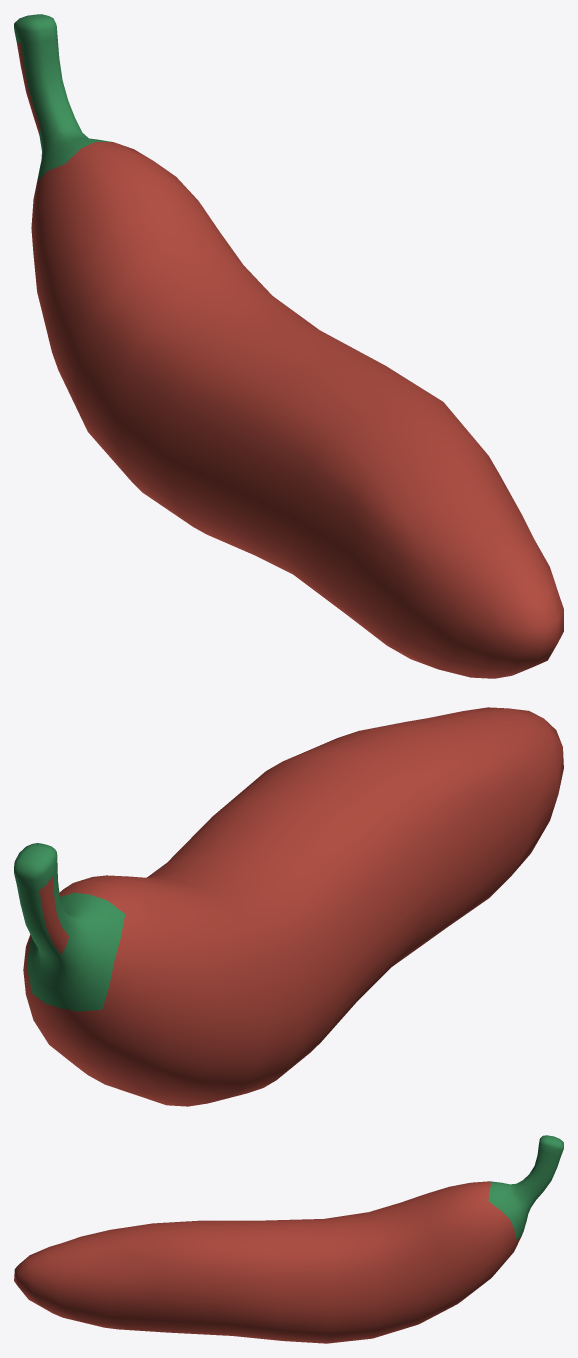
The model's file is Chilli_03.dae.
The picture shows the model from 3 angles, top to bottom: view 1: azimuth 30°, elevation 25°; view 2: azimuth 150°, elevation 25°; view 3: azimuth 270°, elevation 25°; orthographic projection. The views are drawn at different scales.
Visible parts, largest first — view 1: Chilli_03_LOD0; view 2: Chilli_03_LOD0; view 3: Chilli_03_LOD0.
Part boxes in pixels (box(x1,y1,x2,y2)): Chilli_03_LOD0: box(14, 14, 563, 678); Chilli_03_LOD0: box(14, 707, 563, 1106); Chilli_03_LOD0: box(14, 1135, 563, 1343).
Size of what is drawn, in the model's own units: 1.42 by 6.09 by 2.42.
